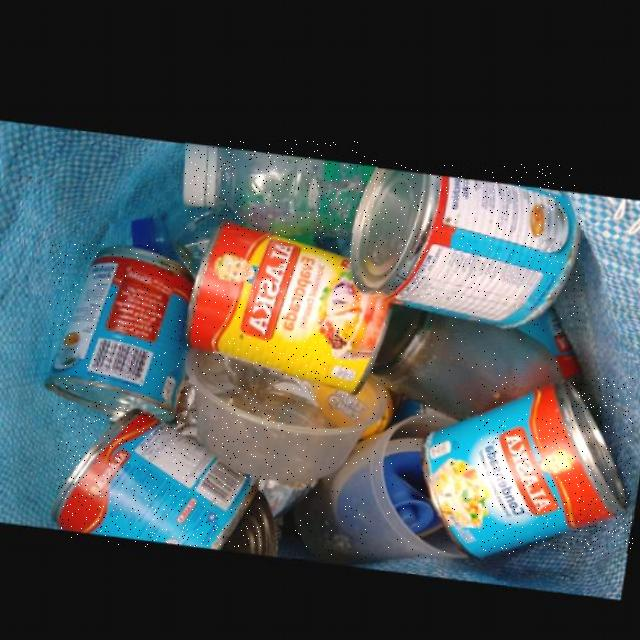glass: (373, 300, 571, 418)
metal: (353, 163, 583, 323), (428, 378, 633, 554), (190, 220, 396, 390), (59, 407, 265, 547), (49, 245, 197, 420)
plastic: (293, 400, 478, 561), (191, 346, 391, 482), (185, 141, 378, 233)
